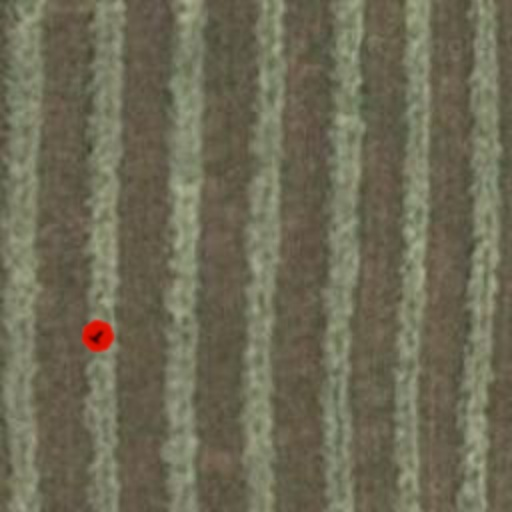heptagon: (74, 312, 122, 360)
